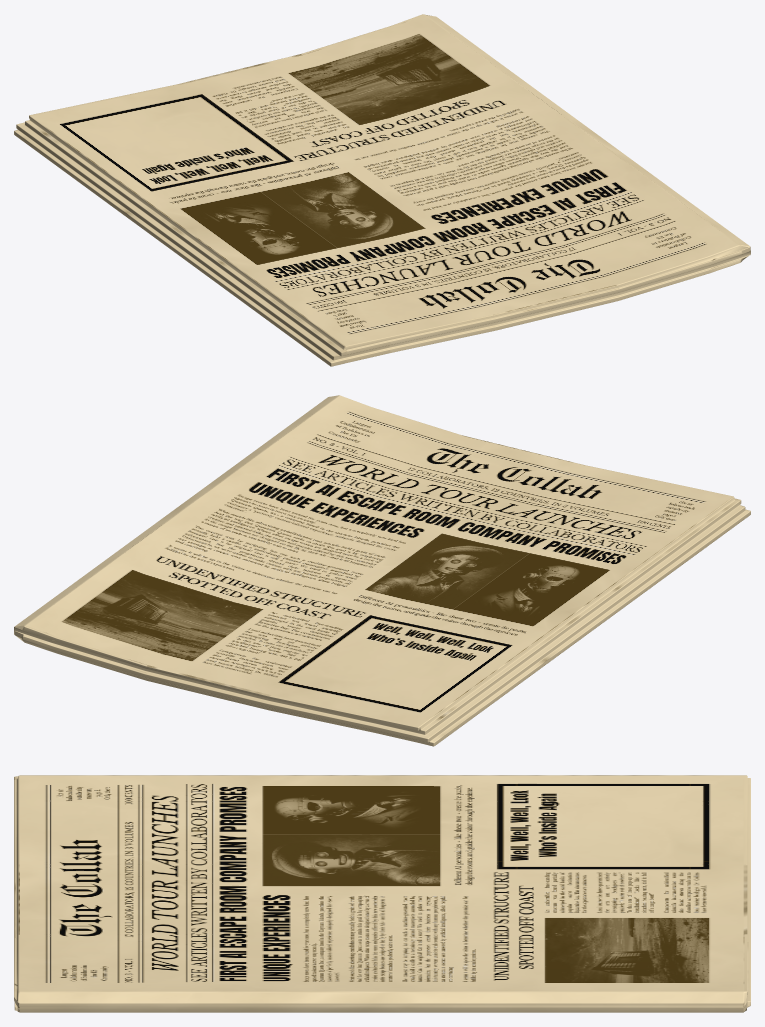
The model's file is mdl_brush_newspaper.gltf.
The picture shows the model from 3 angles, top to bottom: view 1: azimuth 30°, elevation 25°; view 2: azimuth 150°, elevation 25°; view 3: azimuth 270°, elevation 25°; orthographic projection. The views are drawn at different scales.
Parts seen in each view (by area): view 1: Closed_NewsPaper1; view 2: Closed_NewsPaper1; view 3: Closed_NewsPaper1.
Part boxes in pixels (<box>): Closed_NewsPaper1: <box>14,14,750,366</box>; Closed_NewsPaper1: <box>14,395,750,746</box>; Closed_NewsPaper1: <box>14,775,750,1012</box>.
Size of the model in its own units: 0.1923 by 0.0109 by 0.2522.
Materials: 1 (1 with a texture image).
